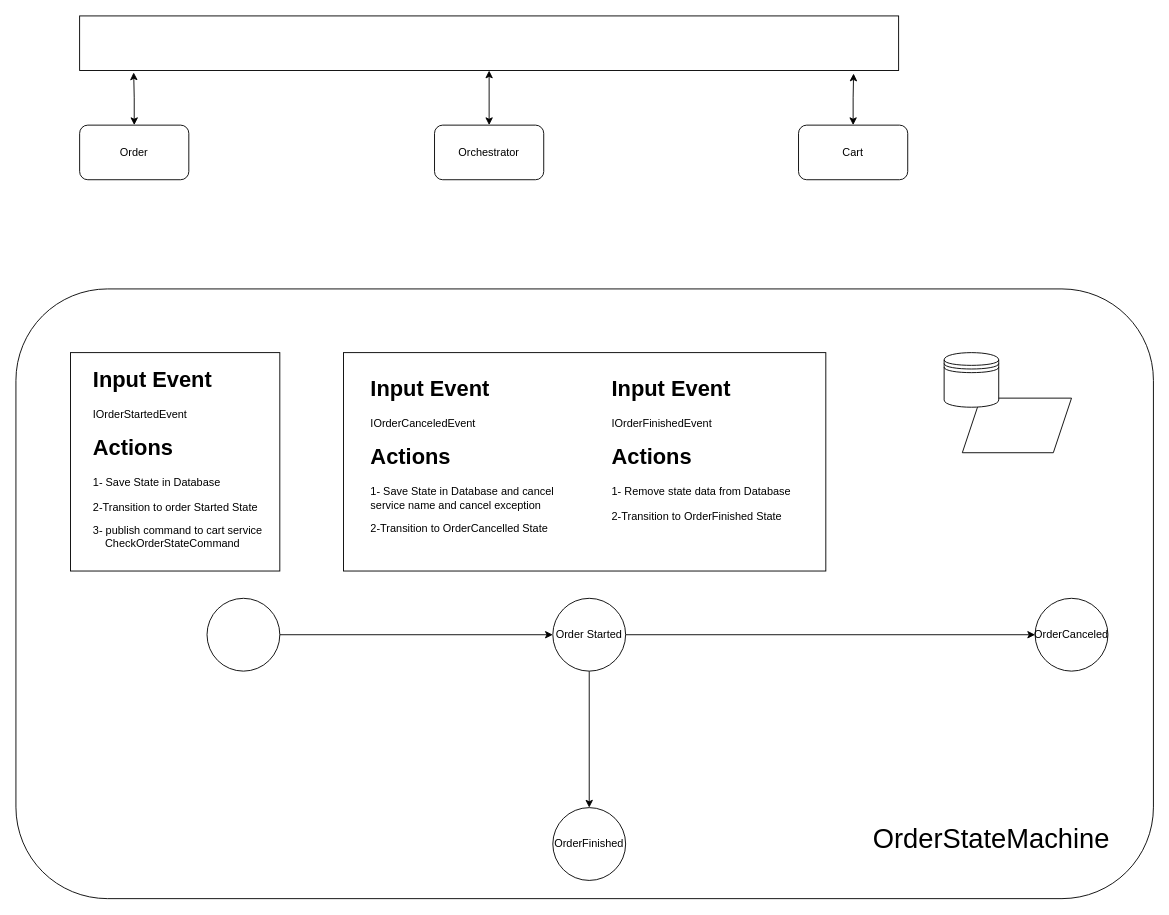
Some shapes in this 1169 by 915 pixel diagram are drawn without their labels. Here are the shapes that lost their labels. From the top down, the centre of each, then its label:
the point at 489,43: Message bus
the point at 1016,425: State data
the point at 243,634: Start
